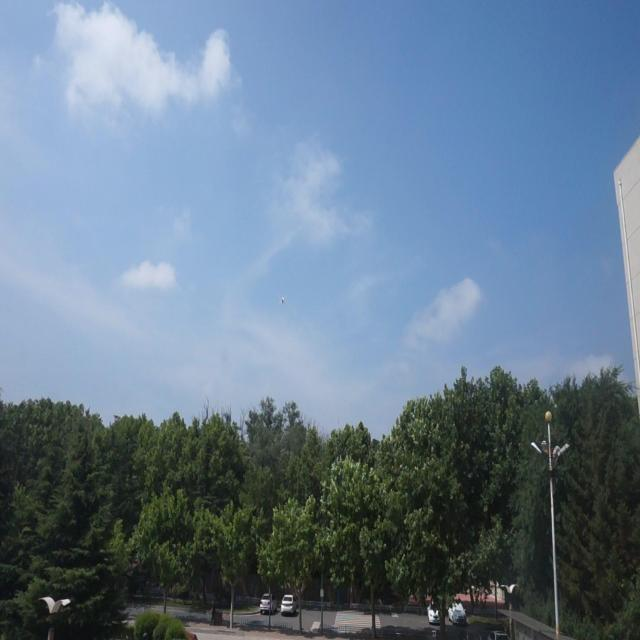drone: (276, 295, 290, 307)
